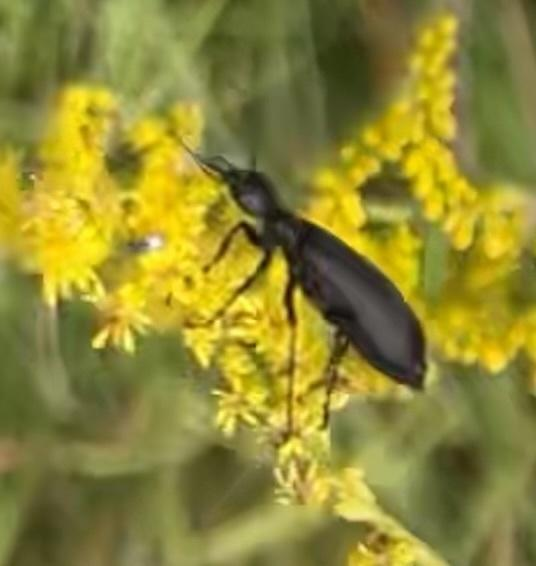blister_beetle: (137, 102, 483, 481)
